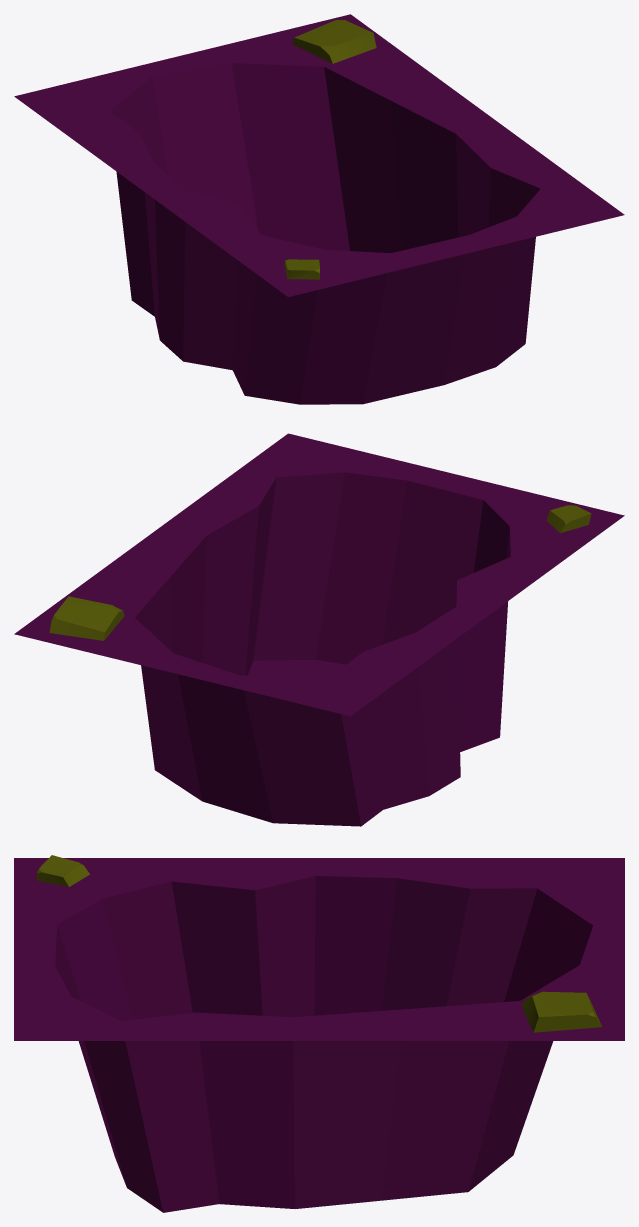
Rendered from Crevasse_3.fbx.
3 renders of one model, top to bottom at view 1: azimuth 30°, elevation 25°; view 2: azimuth 150°, elevation 25°; view 3: azimuth 270°, elevation 25°, orthographic. The views are drawn at different scales.
Parts seen in each view (by area): view 1: Crevasse3; view 2: Crevasse3; view 3: Crevasse3.
Part boxes in pixels (bbox=[...]): Crevasse3: bbox=[14, 14, 624, 404]; Crevasse3: bbox=[14, 433, 624, 826]; Crevasse3: bbox=[14, 855, 624, 1212].
Size of the model in its own units: 229 by 119 by 323.
